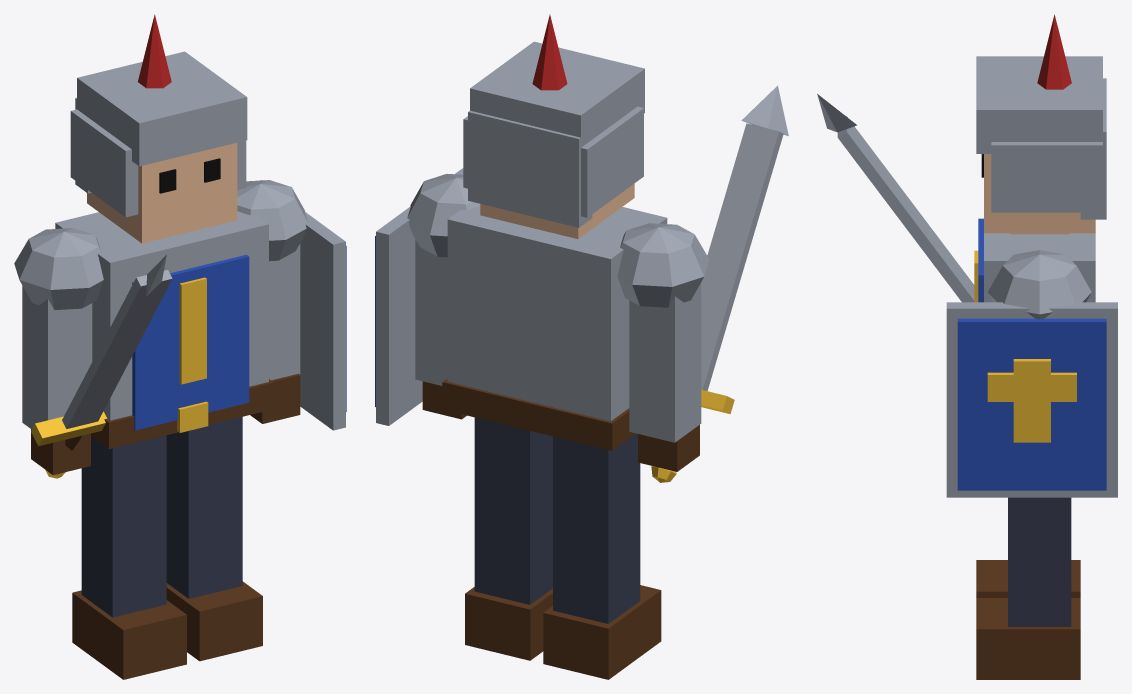
Rendered from Player.fbx.
3 renders of one model, left to right at view 1: azimuth 30°, elevation 25°; view 2: azimuth 150°, elevation 25°; view 3: azimuth 270°, elevation 25°, orthographic. The views are drawn at different scales.
Visible parts, largest first — view 1: Player_Body, Player_Sword; view 2: Player_Body, Player_Sword; view 3: Player_Body, Player_Sword.
Part boxes in pixels (left/top/right/bottom): Player_Body: left=14, top=14, right=346, bottom=679; Player_Sword: left=31, top=254, right=172, bottom=478; Player_Body: left=375, top=14, right=709, bottom=679; Player_Sword: left=651, top=85, right=788, bottom=482; Player_Body: left=946, top=14, right=1117, bottom=679; Player_Sword: left=817, top=94, right=974, bottom=302.
Size of the model in its own units: 0.93 by 1.87 by 0.8077.
